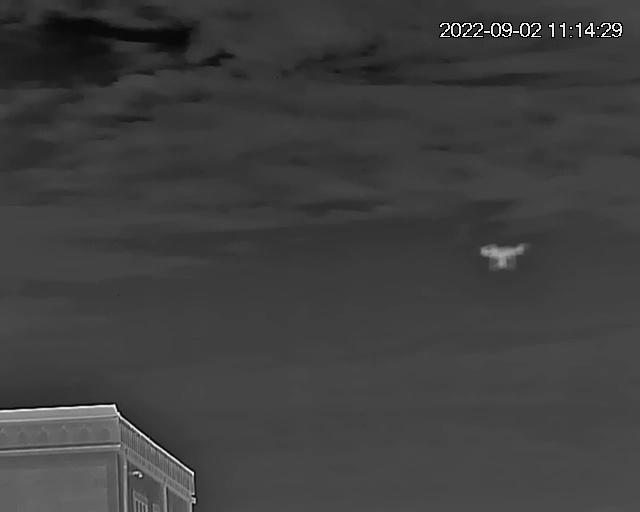DJI-Phantom: (477, 237, 529, 276)
